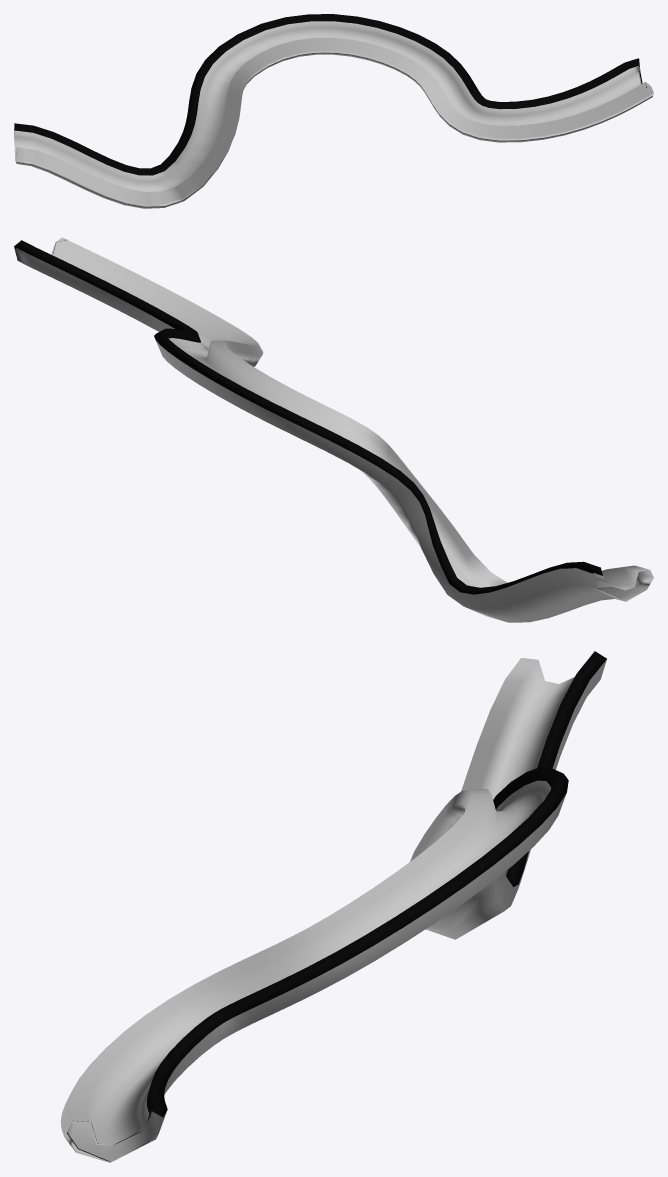
The model's file is osefBlended.fbx.
3 renders of one model, top to bottom at view 1: azimuth 30°, elevation 25°; view 2: azimuth 150°, elevation 25°; view 3: azimuth 270°, elevation 25°, orthographic. The views are drawn at different scales.
Visible parts, largest first — view 1: GameObject; view 2: GameObject; view 3: GameObject.
Part boxes in pixels (<box>): GameObject: <box>14,14,653,208</box>; GameObject: <box>14,237,653,622</box>; GameObject: <box>60,651,606,1162</box>.
Bounding box in the file's own units: 737 × 183 × 327.
